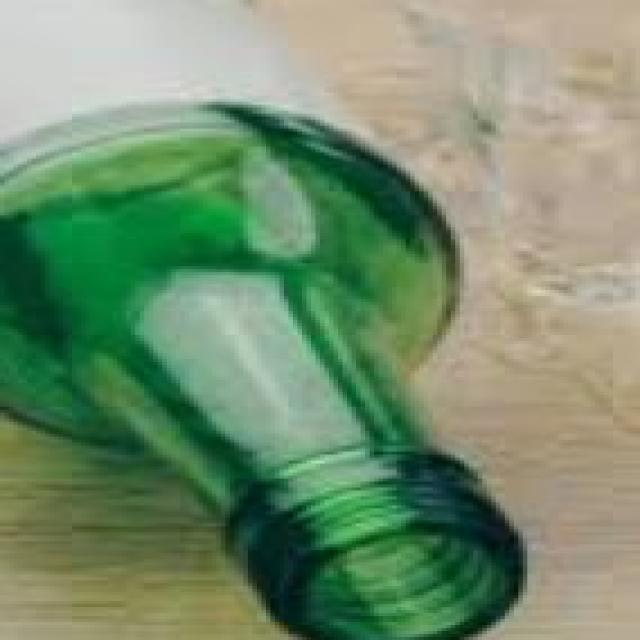electronic: (0, 0, 527, 637)
